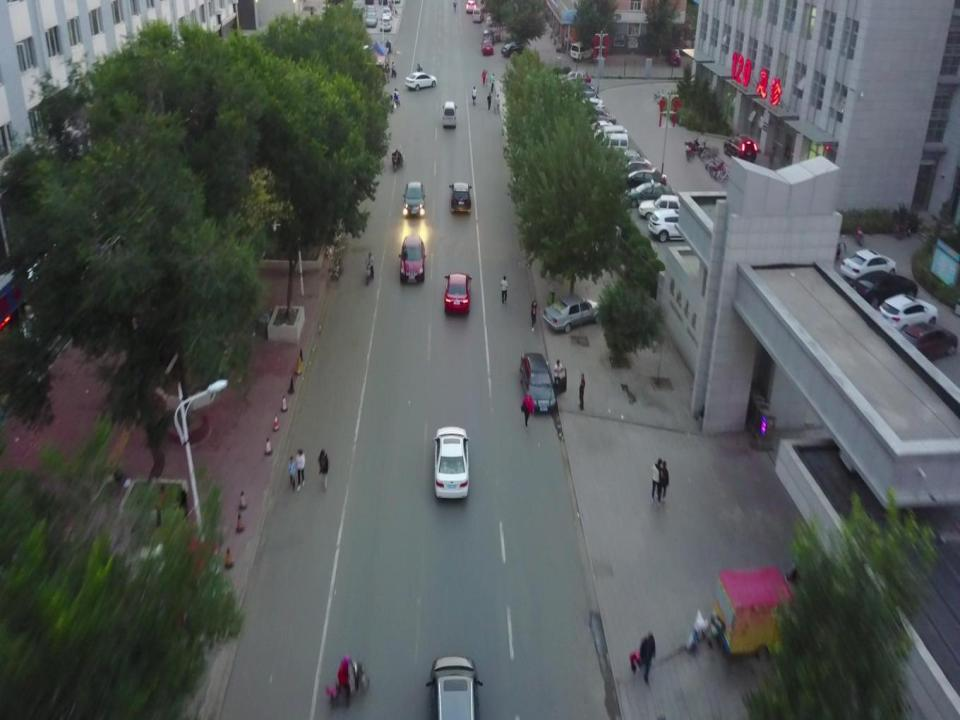car: (426, 655, 482, 720), (519, 352, 567, 414), (846, 270, 918, 310), (874, 294, 939, 338), (432, 426, 471, 499), (892, 323, 958, 364), (542, 295, 604, 333), (646, 208, 710, 243), (840, 249, 896, 280), (622, 179, 675, 208), (638, 195, 695, 220), (398, 236, 426, 284), (444, 270, 472, 314), (620, 167, 666, 190), (724, 135, 758, 163), (402, 181, 426, 218), (610, 150, 652, 171), (572, 107, 616, 127), (563, 88, 600, 109), (449, 182, 472, 214), (557, 78, 594, 96), (570, 98, 605, 117), (404, 72, 437, 92), (570, 41, 594, 62), (560, 70, 591, 84), (500, 40, 524, 56), (486, 14, 507, 26), (482, 28, 495, 45), (380, 15, 392, 32), (668, 48, 680, 65), (481, 40, 493, 56), (366, 12, 377, 28), (466, 0, 477, 14), (366, 5, 376, 18), (382, 6, 392, 19)
van: (578, 121, 627, 141), (596, 133, 629, 158), (442, 101, 458, 128), (472, 6, 484, 23)
